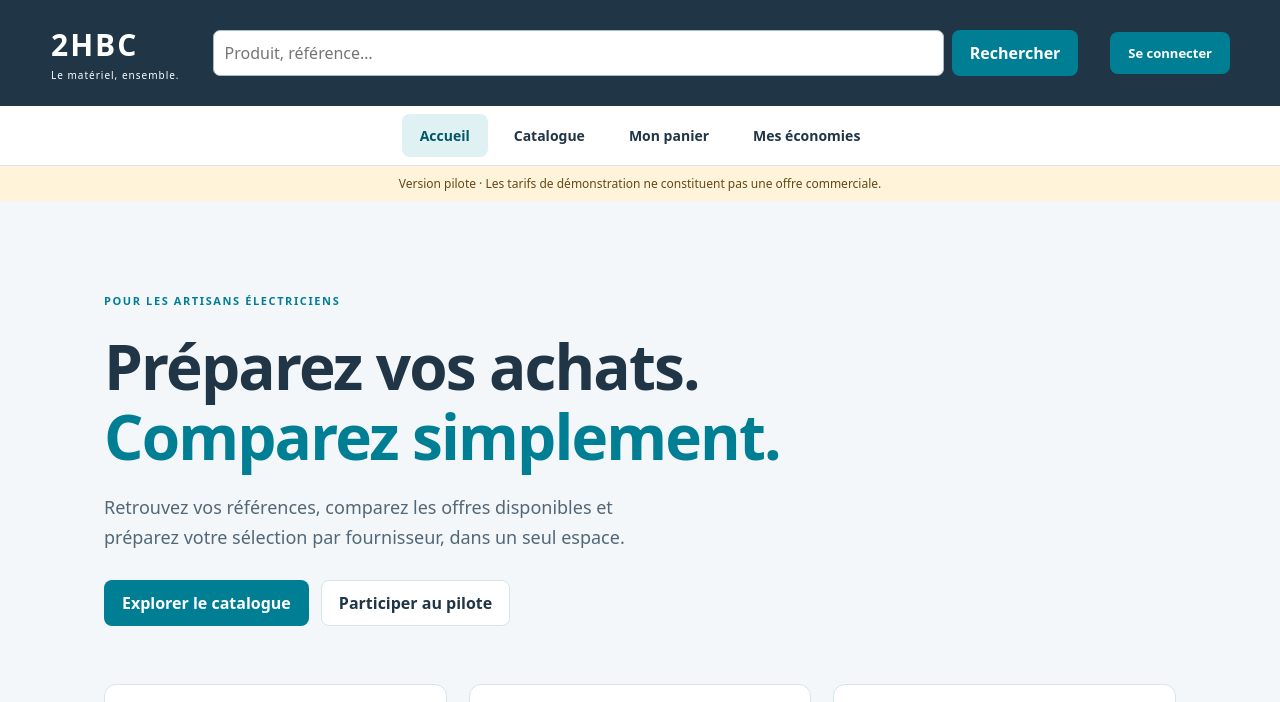
Visiteur : aucun prix affiché même si une réponse en contient
This screenshot has width=1280, height=702.
Step 1. Click the button "Explorer le catalogue" → (206,603), box [104, 580, 309, 626]
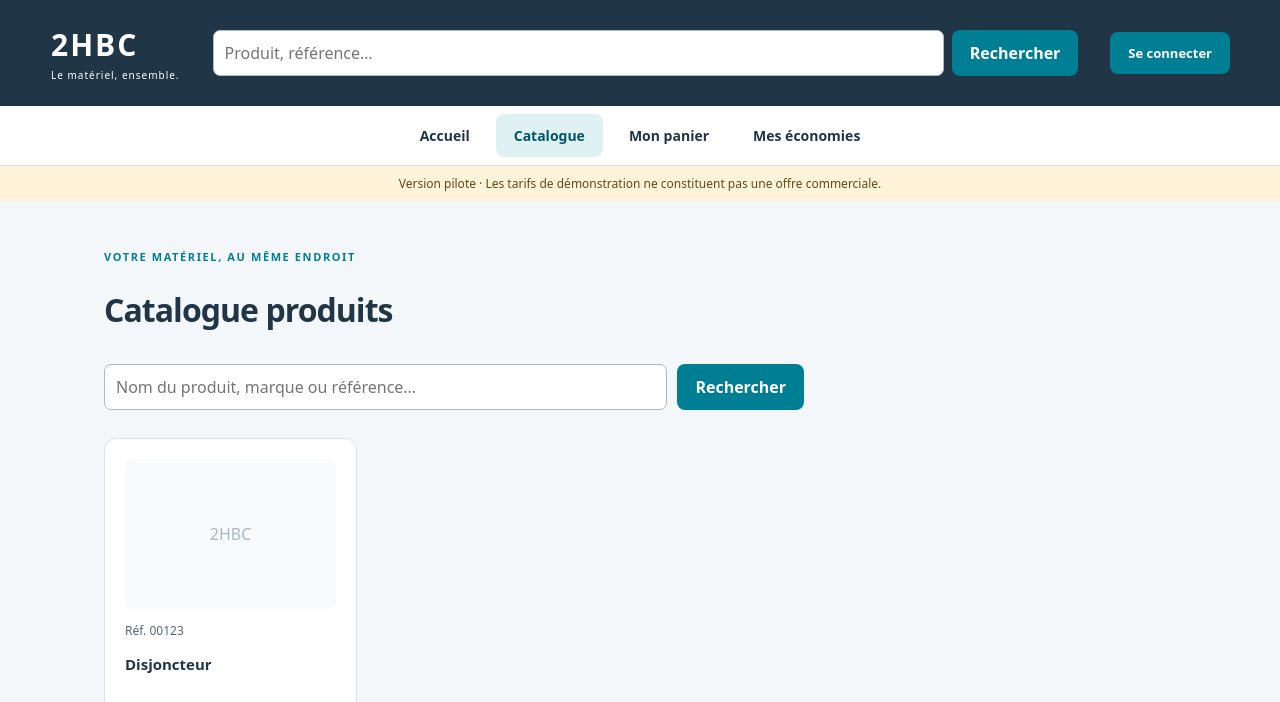
Expected: the heading "Disjoncteur" is shown, [125, 654, 212, 674]
